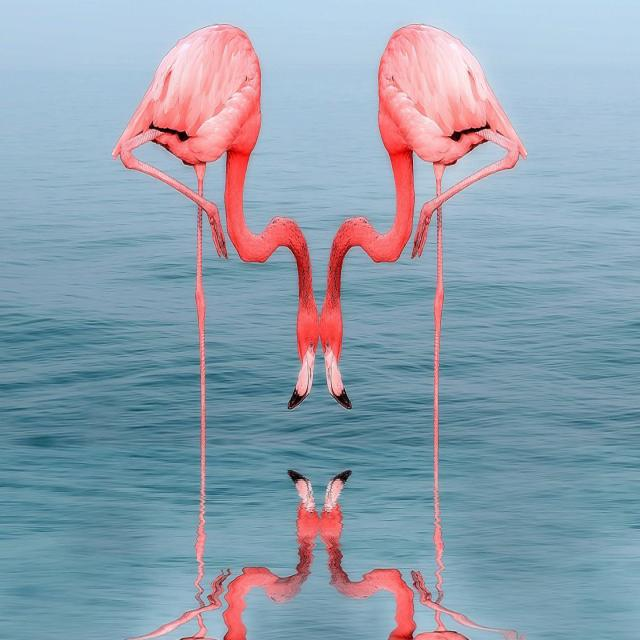Flamingo: (115, 18, 320, 436), (320, 21, 529, 420)
